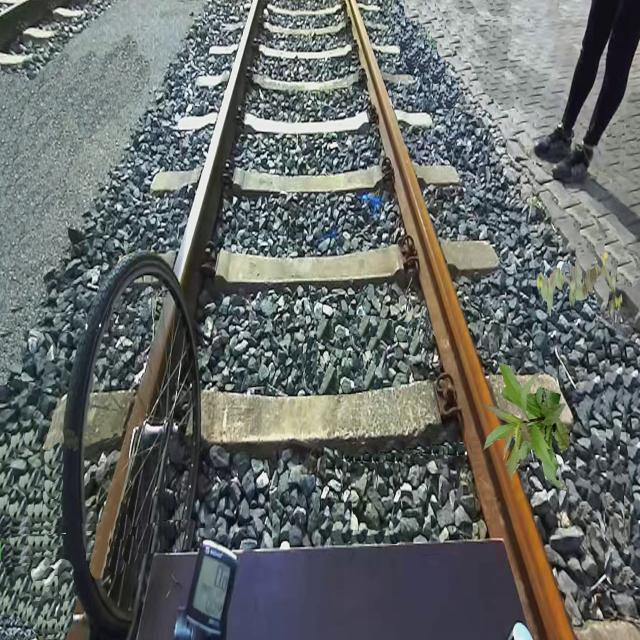Plant: (482, 362, 570, 492), (536, 250, 622, 318)
